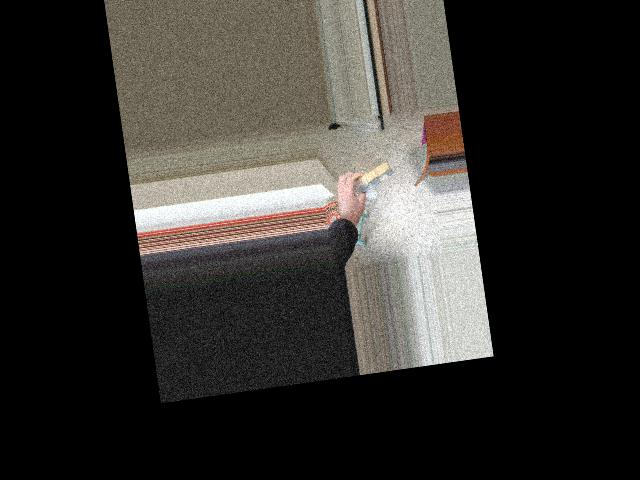cheese: (327, 146, 400, 208)
